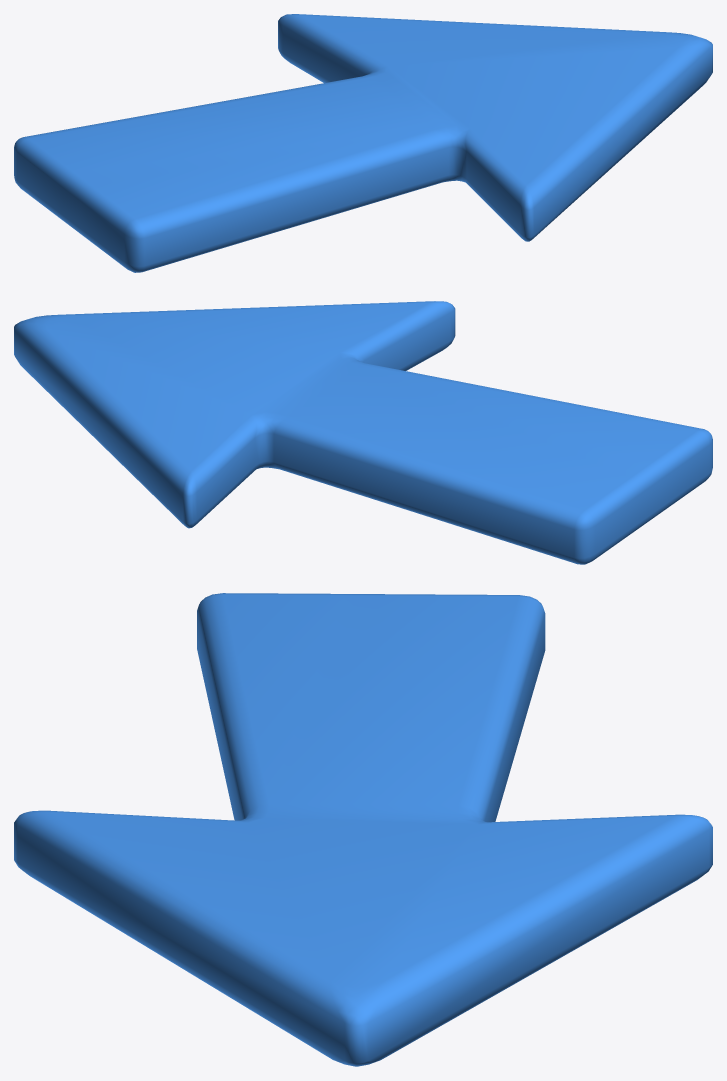
File: asset.gltf
The picture shows the model from 3 angles, top to bottom: view 1: azimuth 30°, elevation 25°; view 2: azimuth 150°, elevation 25°; view 3: azimuth 270°, elevation 25°; orthographic projection. The views are drawn at different scales.
Parts seen in each view (by area): view 1: Arrow; view 2: Arrow; view 3: Arrow.
Part boxes in pixels (x1,y1,x2,y2): Arrow: (14, 14, 712, 272); Arrow: (14, 301, 712, 564); Arrow: (14, 593, 712, 1066).
Bounding box in the file's own units: 3.01 × 0.2343 × 2.11.
